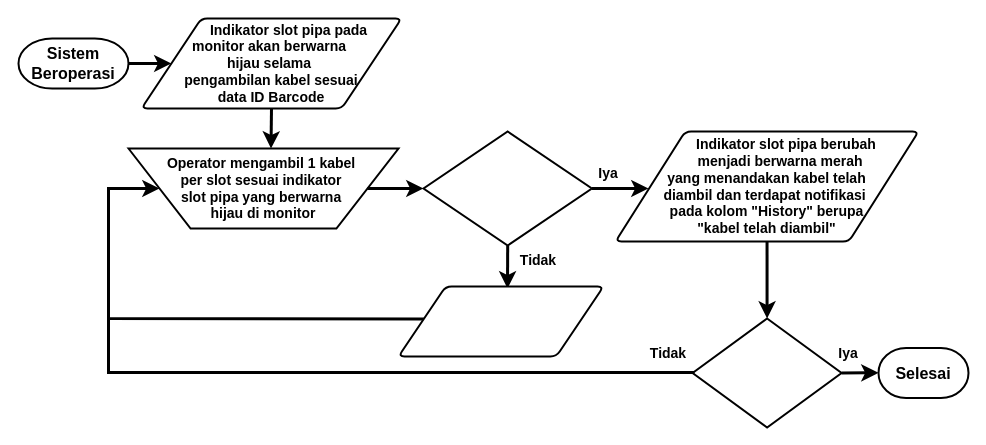
The diagram is 986 pixels wide and 445 high, and some of its shapes have lost their labels. The centre of each missing label's shape, as x and y in pixels:
Akan terdapat notifikasi pada kolom "History" berupa peringatan: [500,321]
Apakah kabel diambil dengan benar?: [507,188]
Apakah kolom "Counter" tertera 0?: [766,372]
